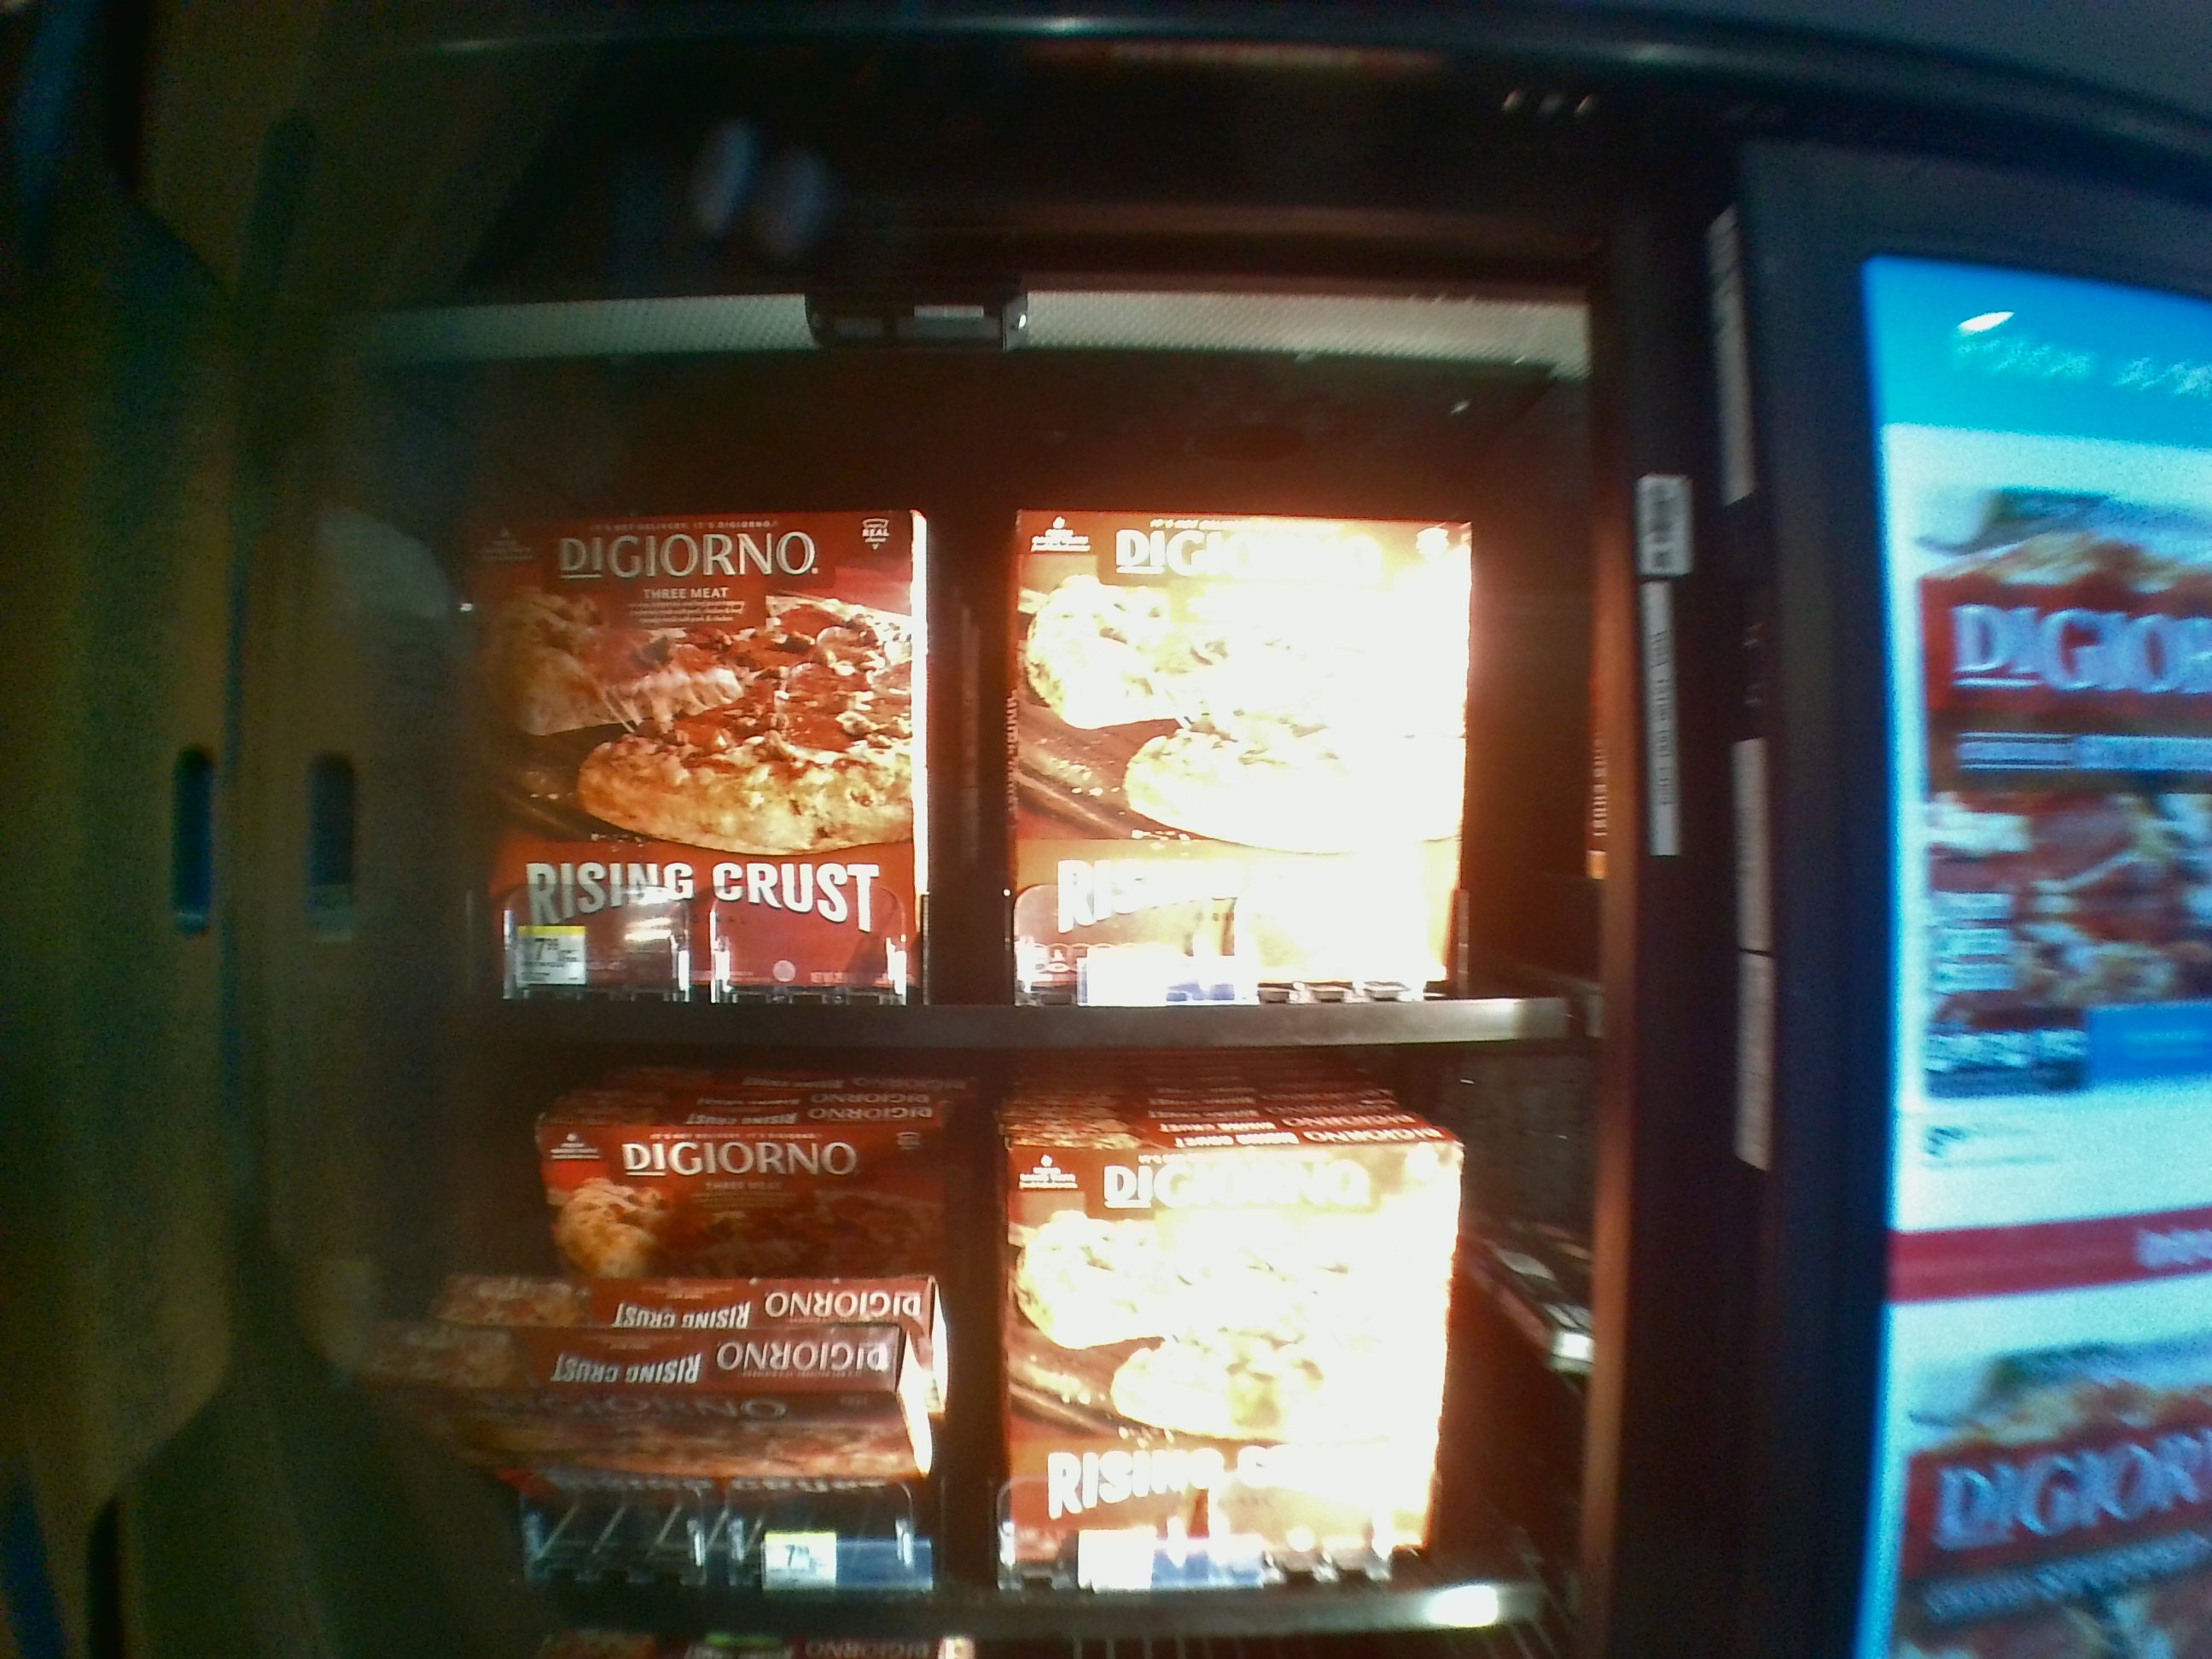shelf: (394, 392, 1585, 1053), (418, 1046, 1569, 1633)
